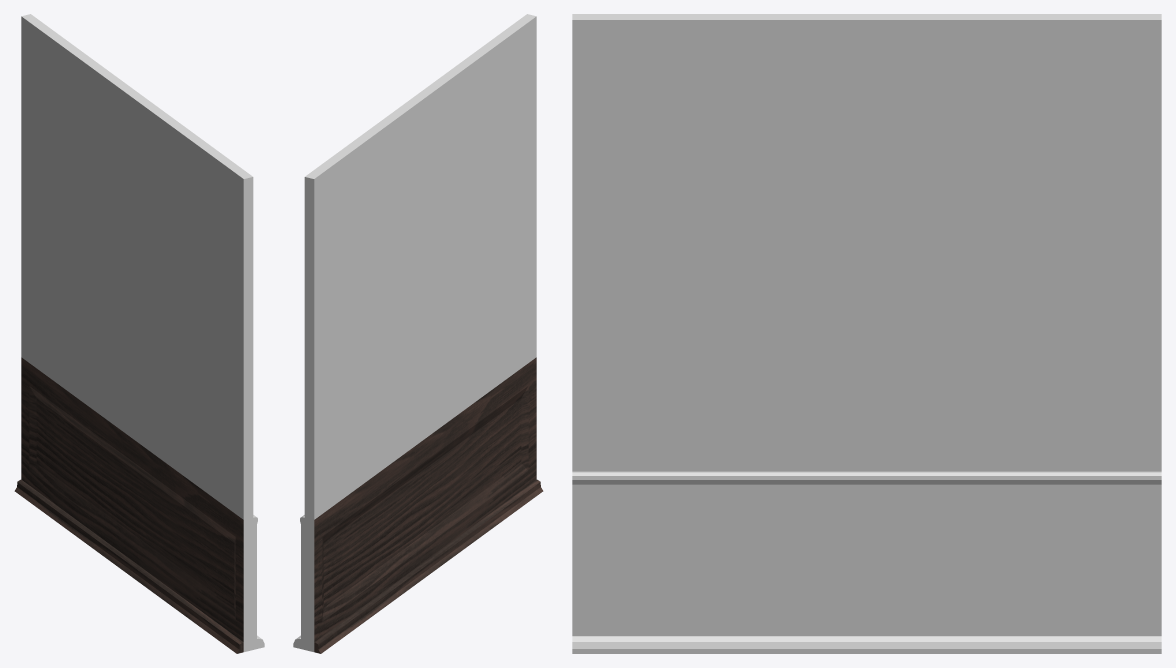
File: Wall.fbx
3 renders of one model, left to right at view 1: azimuth 30°, elevation 25°; view 2: azimuth 150°, elevation 25°; view 3: azimuth 270°, elevation 25°, orthographic. The views are drawn at different scales.
Visible parts, largest first — view 1: Wall; view 2: Wall; view 3: Wall.
Part boxes in pixels (x1=…): Wall: x1=14, y1=14, x2=264, y2=653; Wall: x1=293, y1=14, x2=543, y2=653; Wall: x1=572, y1=14, x2=1161, y2=653.
Bounding box in the file's own units: 14.86 × 243 × 207.
